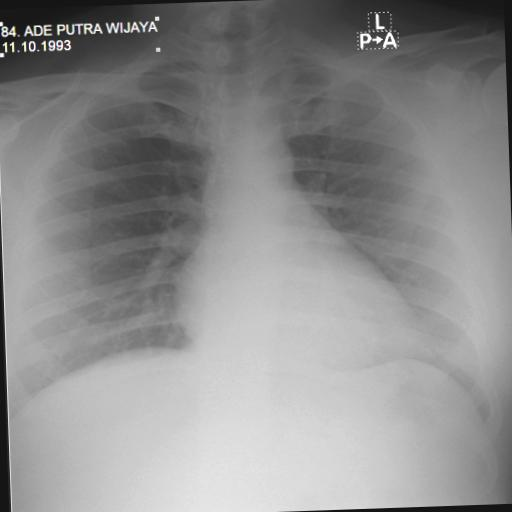kardiomegali: (0, 29, 502, 461)
